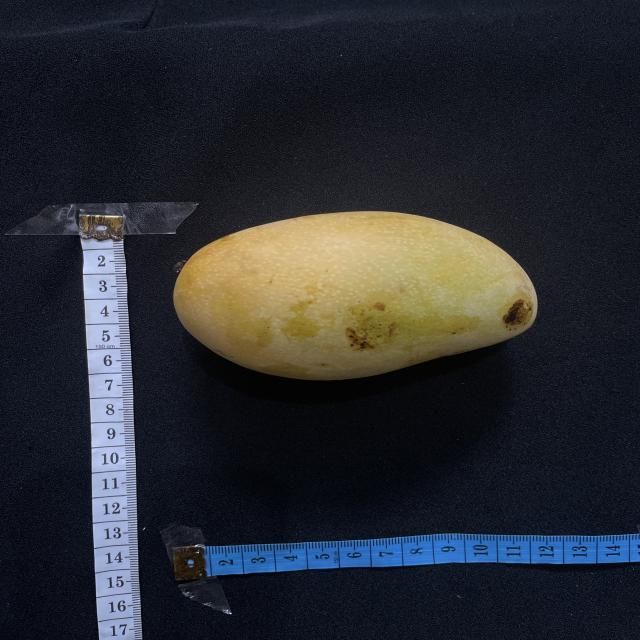Ripe: (174, 212, 537, 380)
